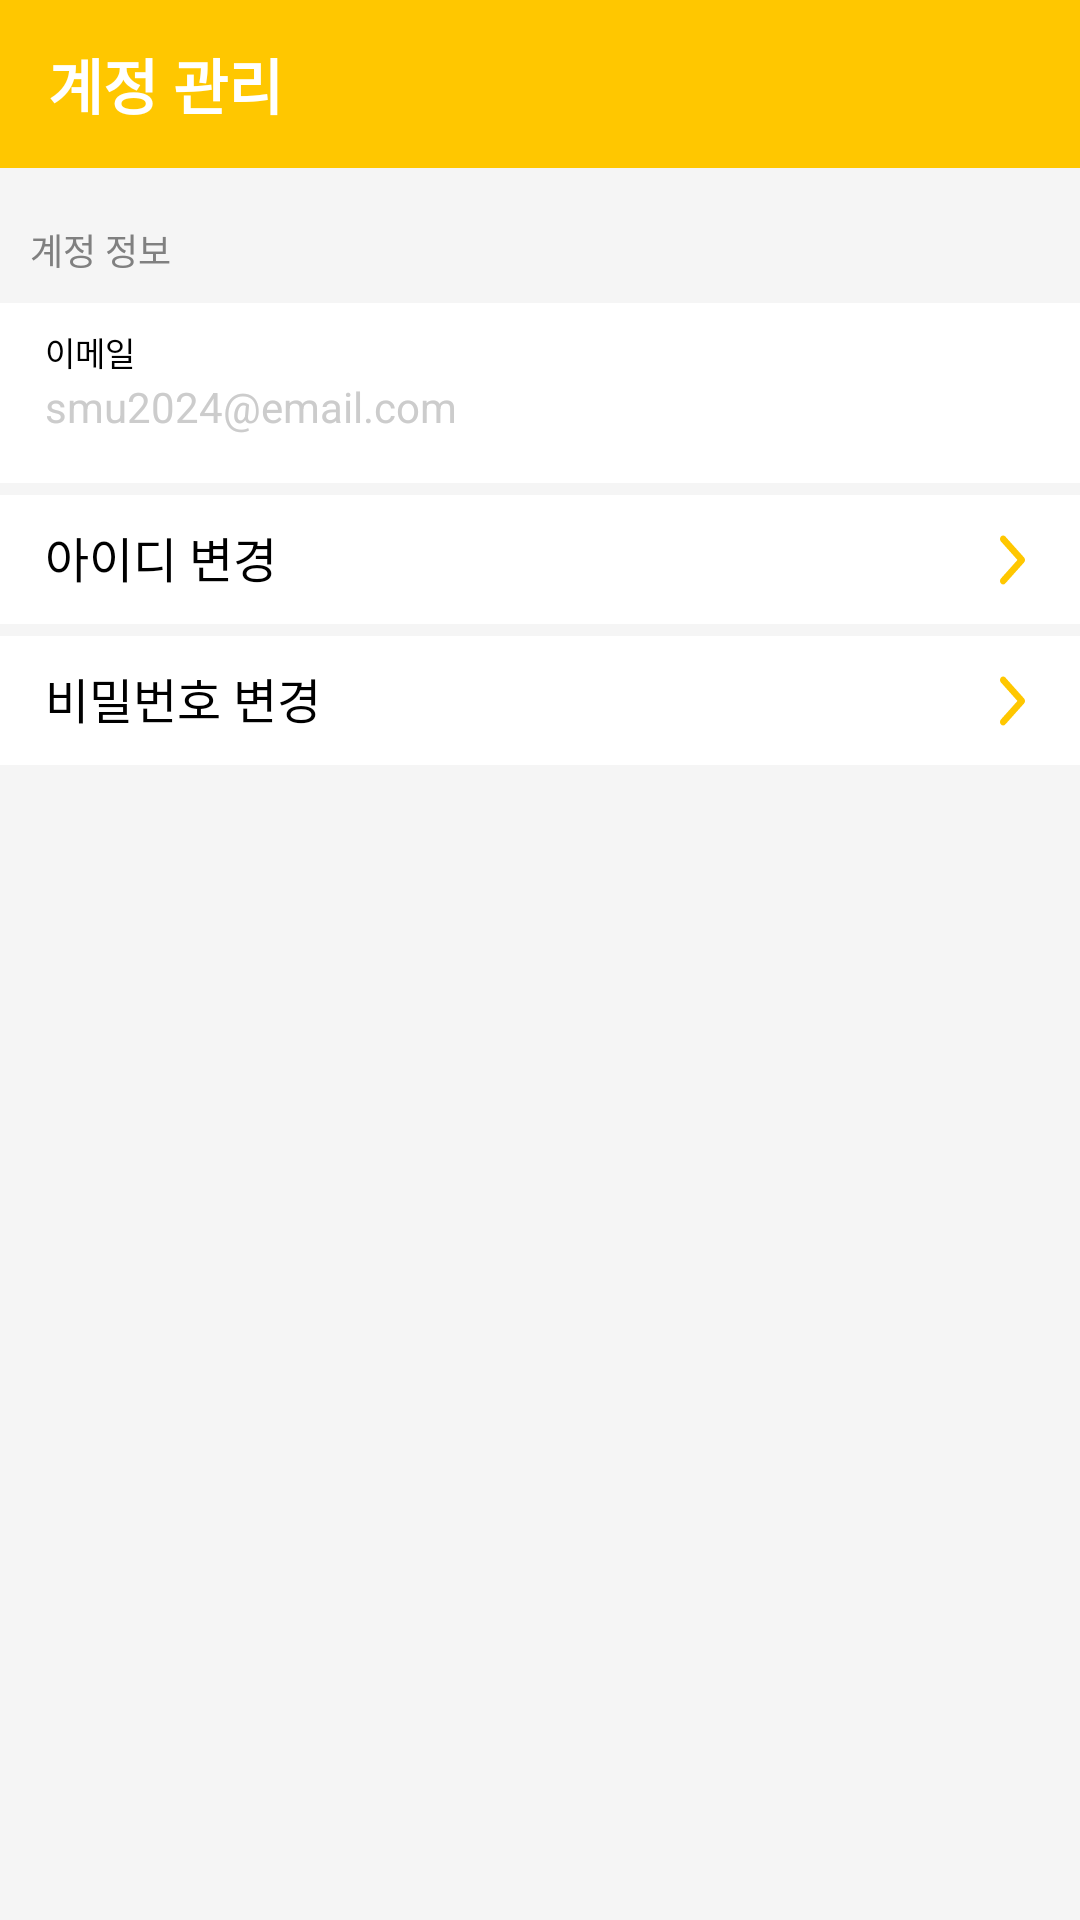

Where to tap for icons on this 1080px x 1920px app screen, as (x,y):
chevron right: (1012,560), (1012,701)
